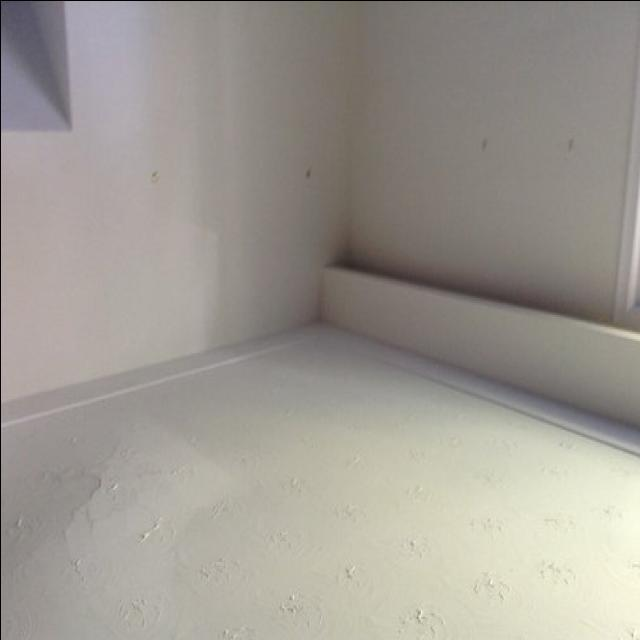leak: (14, 425, 204, 630)
